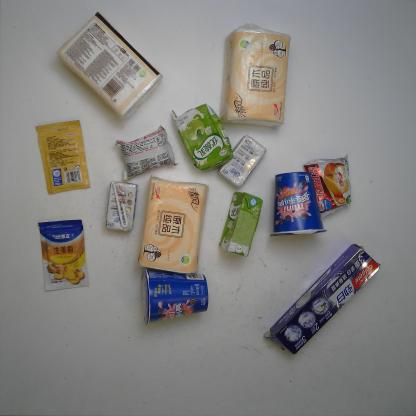Dessert: (138, 263, 210, 330), (268, 169, 329, 241), (112, 122, 180, 183), (299, 152, 353, 222)
Milk: (170, 102, 237, 174), (216, 189, 265, 259), (215, 132, 269, 189), (103, 180, 141, 234)
Personal Hygiene: (260, 240, 384, 359)
Seasoner: (32, 118, 93, 196), (34, 216, 91, 294)
Tissue: (52, 9, 168, 122), (216, 20, 295, 132), (135, 173, 211, 278)
